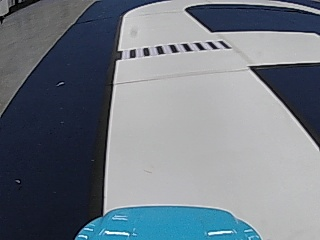CrossWalk: (120, 39, 227, 59)
